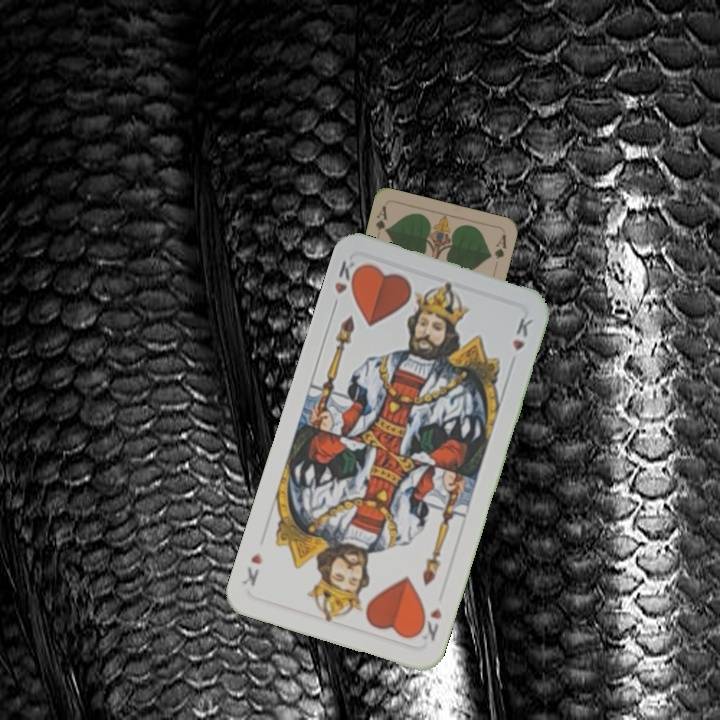GA: (371, 202, 390, 235)
HK: (328, 256, 364, 313), (413, 604, 445, 644)
